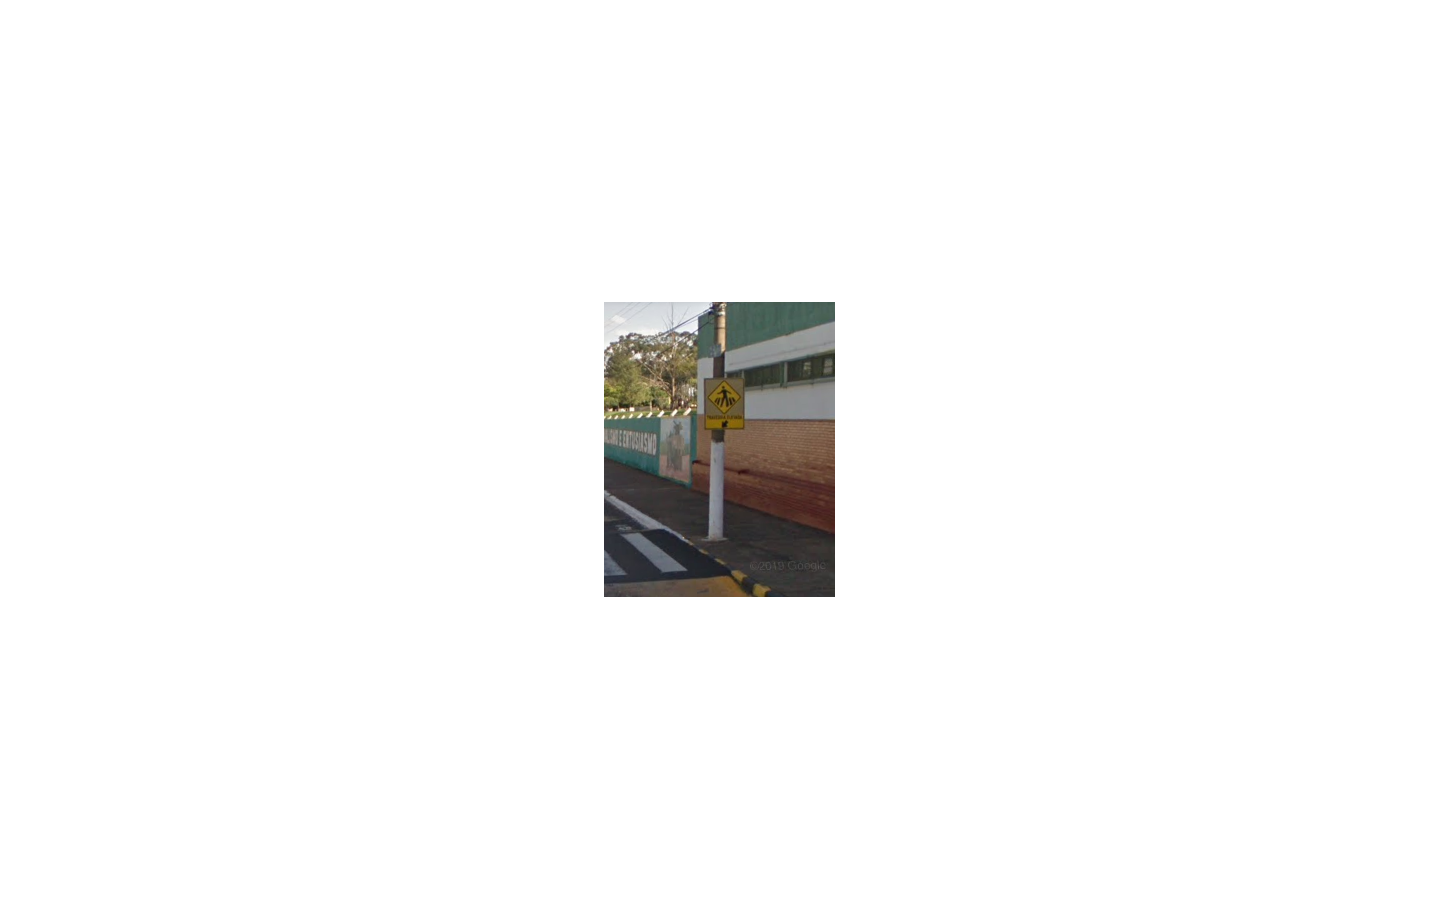telev: (704, 377, 745, 430)
